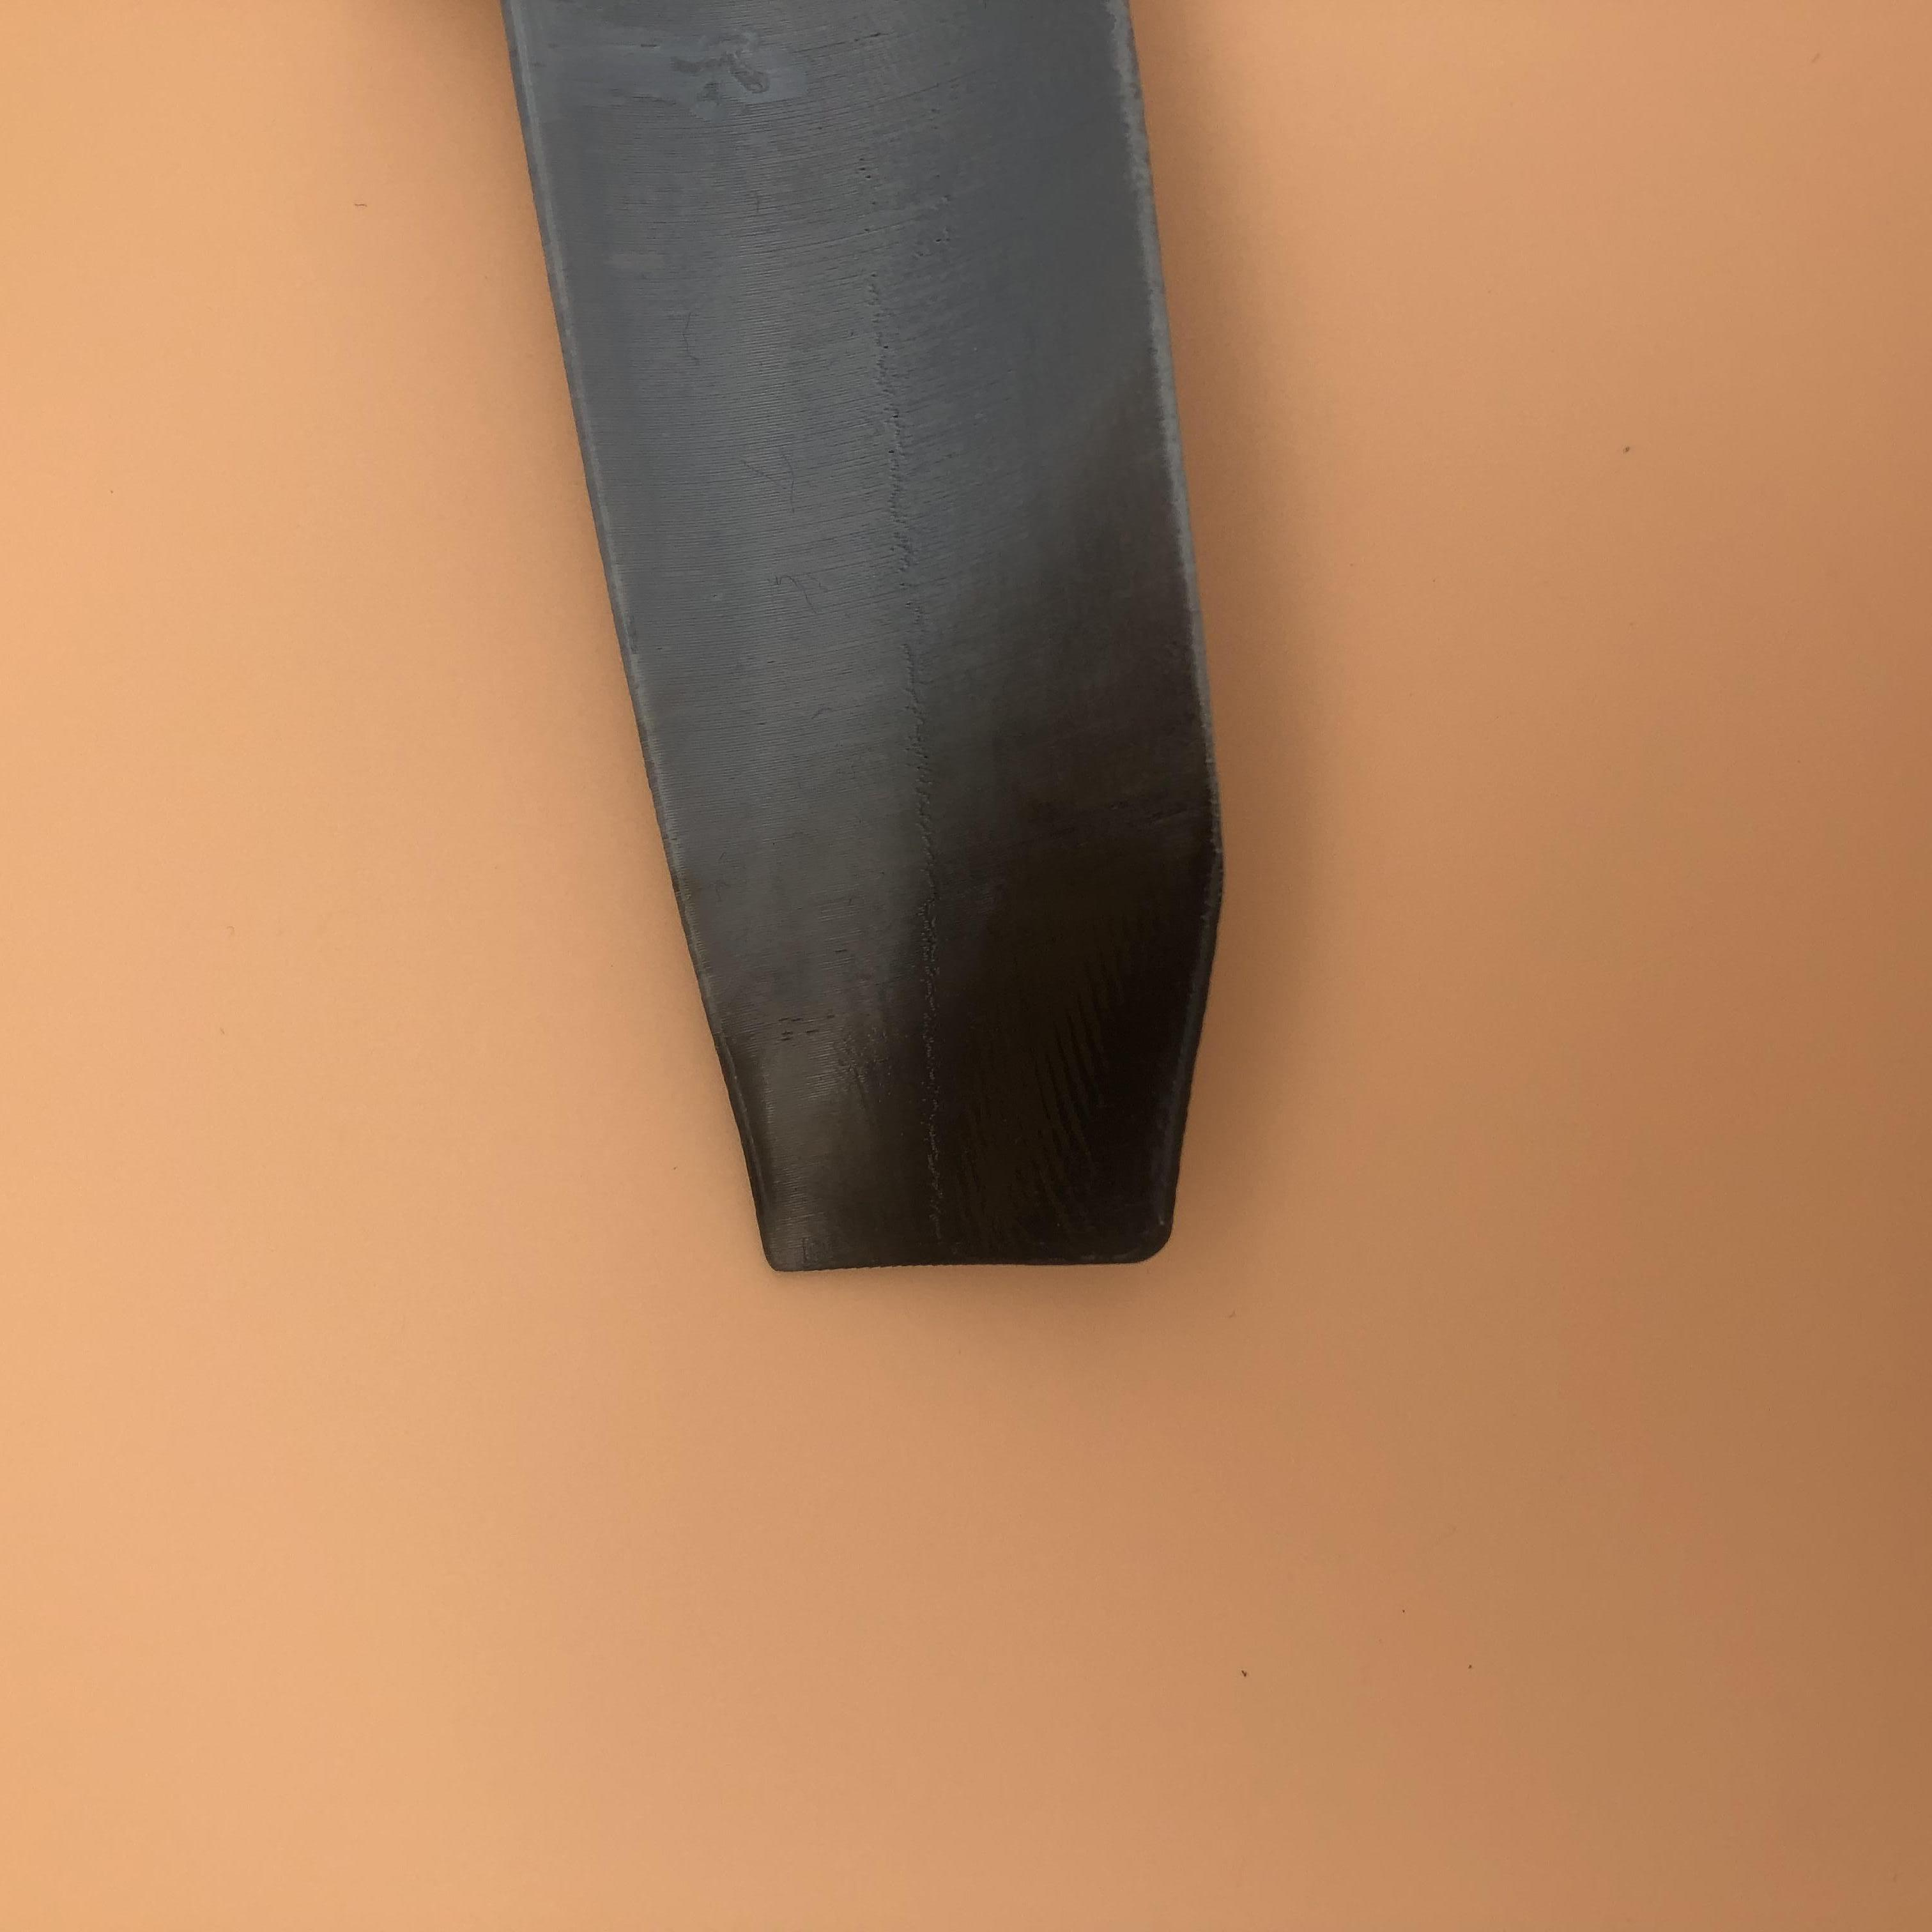ablation: (943, 724, 1189, 1237)
